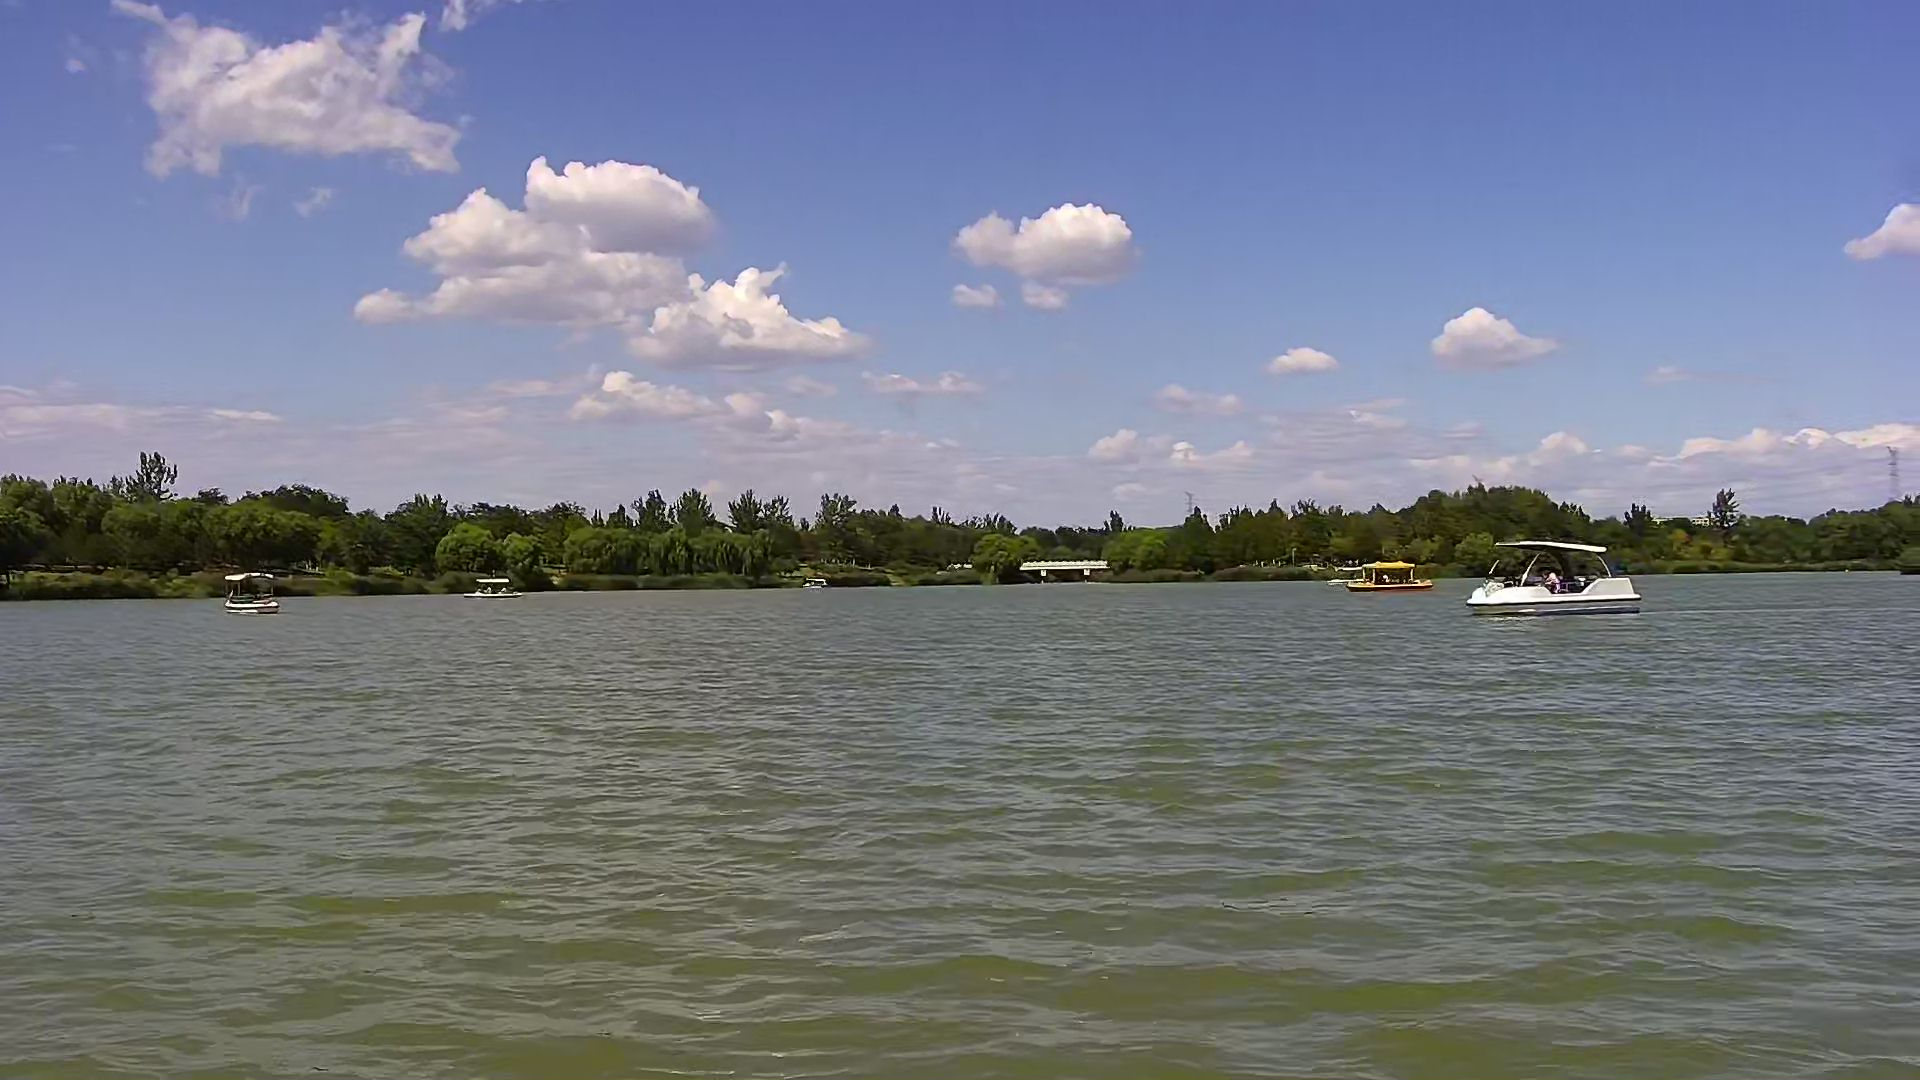boat: (1462, 537, 1643, 618), (219, 568, 278, 615), (1360, 556, 1428, 589), (469, 572, 517, 595), (1325, 564, 1370, 580)
bridge: (1023, 558, 1102, 583)
